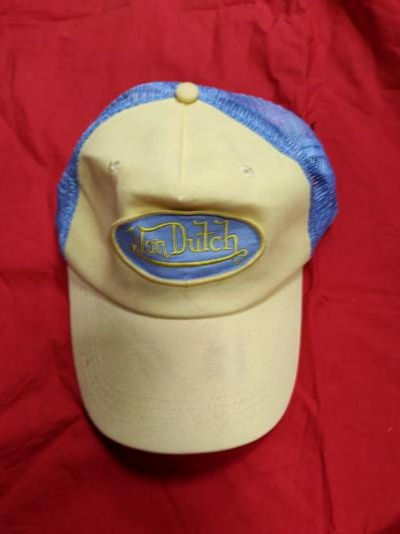Hat: (16, 52, 352, 472)
